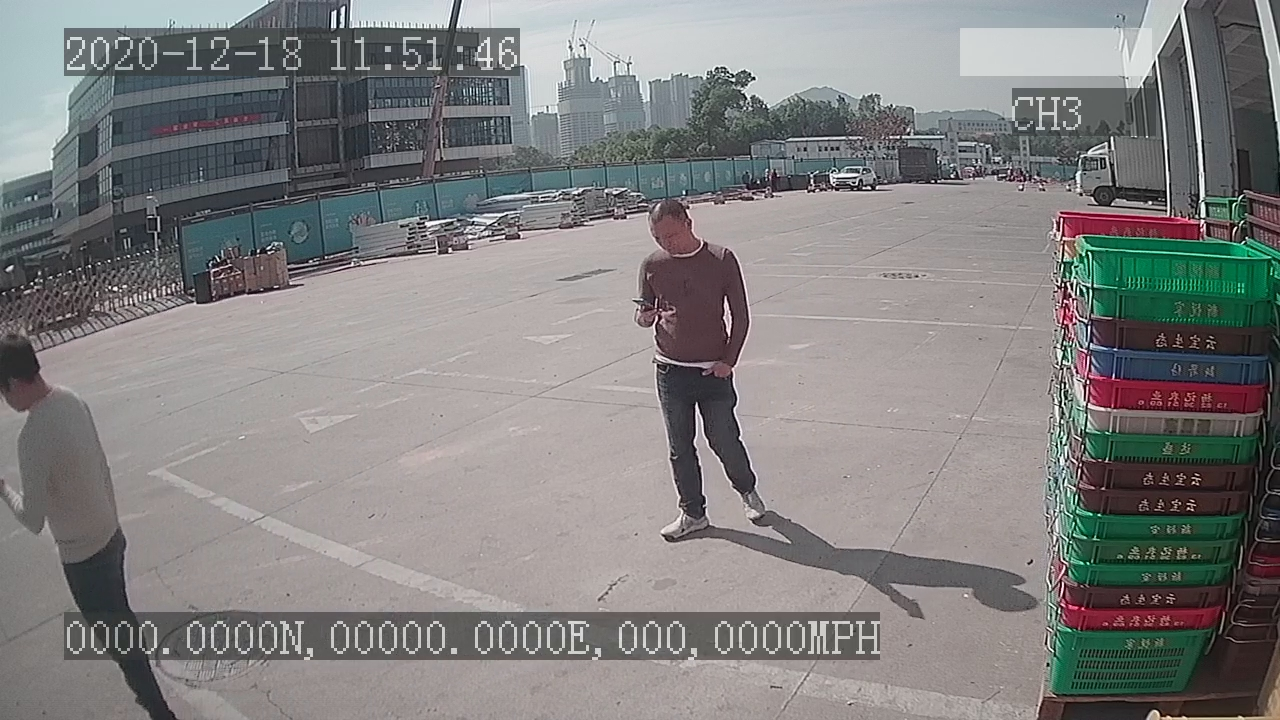person: (626, 194, 774, 544)
